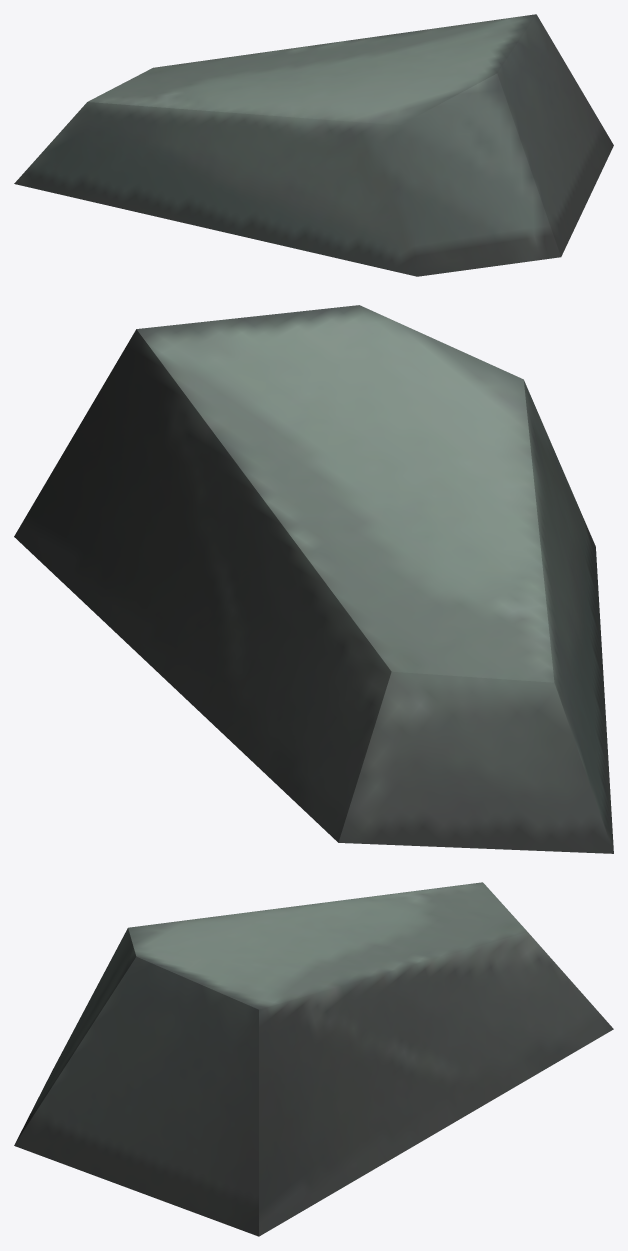
File: scene_shenmisenlin_strone08.FBX
3 renders of one model, top to bottom at view 1: azimuth 30°, elevation 25°; view 2: azimuth 150°, elevation 25°; view 3: azimuth 270°, elevation 25°, orthographic. The views are drawn at different scales.
Visible parts, largest first — view 1: scene_shenmisenlin_strone08; view 2: scene_shenmisenlin_strone08; view 3: scene_shenmisenlin_strone08.
Boxes of the visible parts, box(x1,y1,x2,y2) form: scene_shenmisenlin_strone08: box(14, 14, 613, 276); scene_shenmisenlin_strone08: box(14, 305, 613, 853); scene_shenmisenlin_strone08: box(14, 882, 613, 1236).
Bounding box in the file's own units: 128 × 37.61 × 113.
